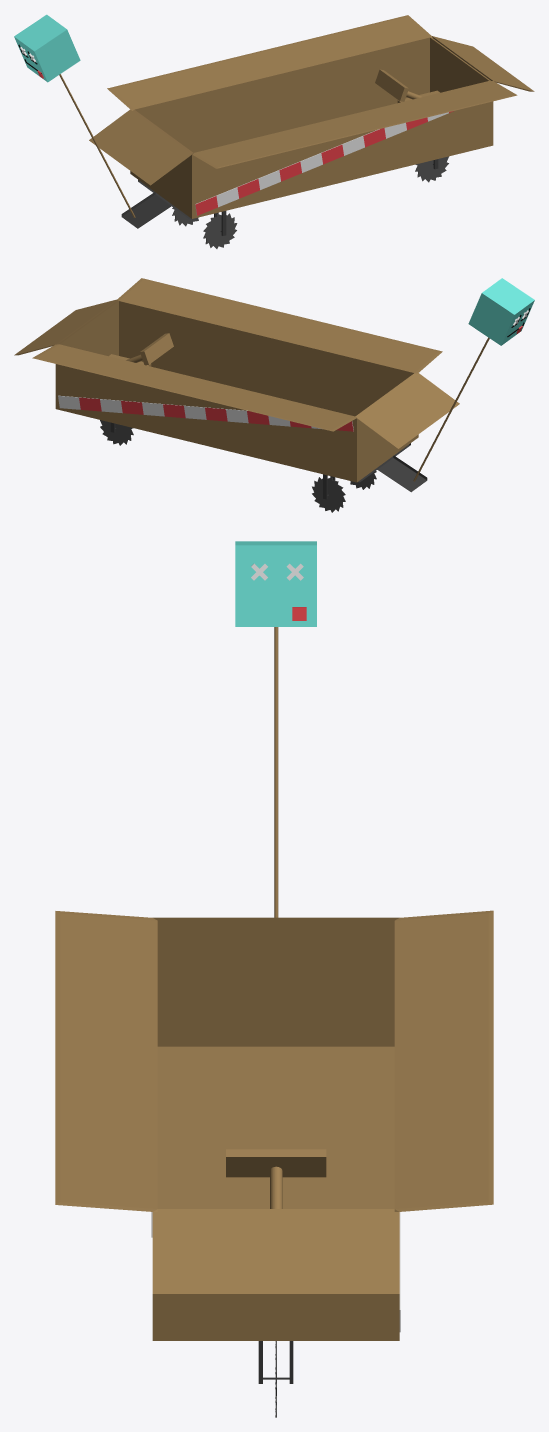
The model's file is BoxKart.gltf.
3 views of the same model, one above another, from view 1: azimuth 30°, elevation 25°; view 2: azimuth 150°, elevation 25°; view 3: azimuth 270°, elevation 25° (orthographic). The views are drawn at different scales.
Visible parts, largest first — view 1: Cylinder.007; view 2: Cylinder.007; view 3: Cylinder.007.
Part boxes in pixels (x1,y1,x2,y2): Cylinder.007: (14, 14, 534, 248); Cylinder.007: (14, 278, 534, 512); Cylinder.007: (55, 541, 493, 1417).
Size of the model in its own units: 15.58 by 7.79 by 6.16.
